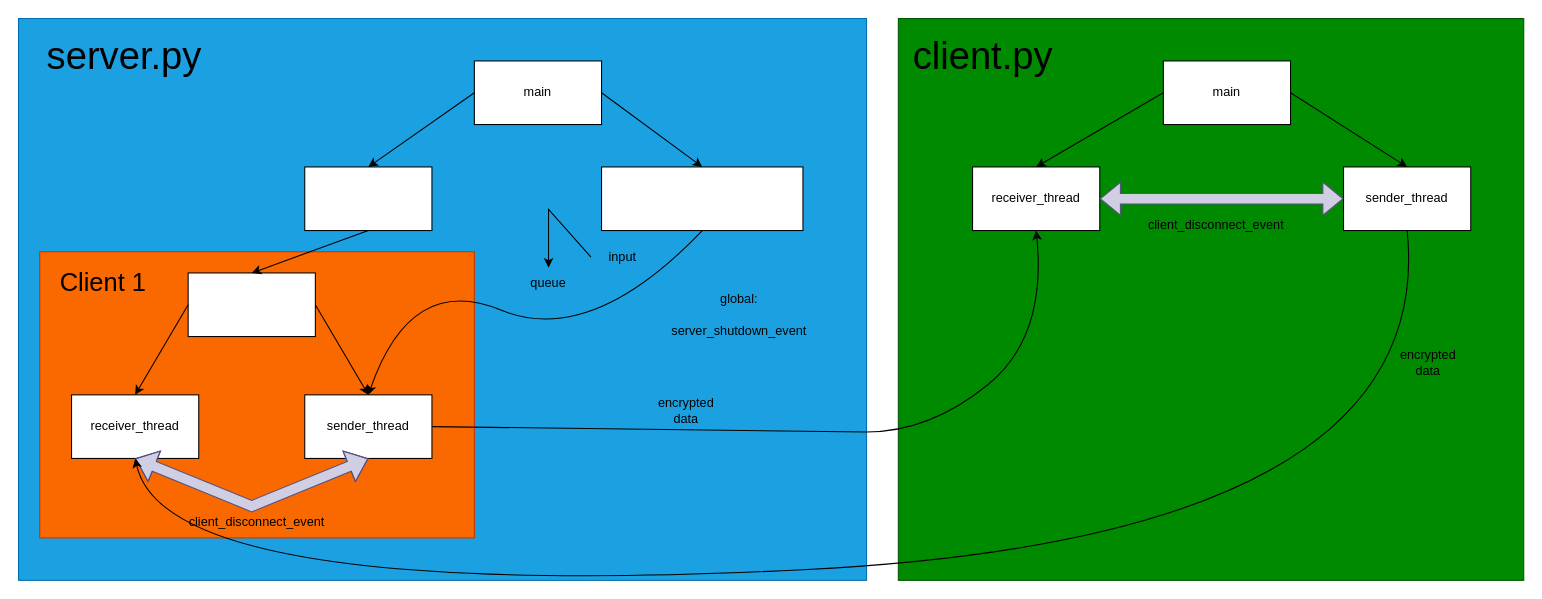
Some shapes in this 1542 by 599 pixel diagram are drawn without their labels. Here are the shapes that lost their labels. From the top down, the centre of each, then its label:
the point at 368,198: listener_thread
the point at 701,198: server_management_interface
the point at 251,304: handle_client
